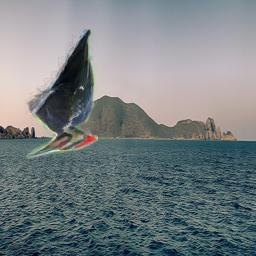Woodpecker: (25, 29, 98, 159)
